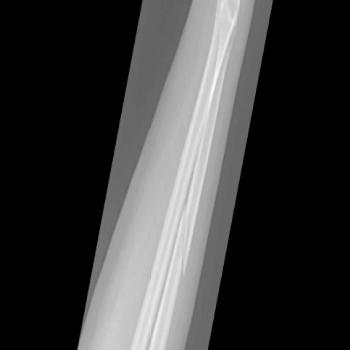Fracture: (179, 202, 193, 282)
